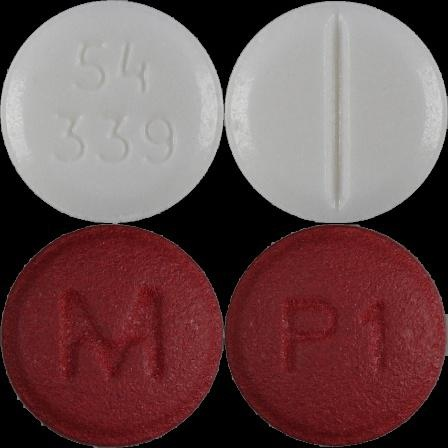0615-2513: (0, 0, 224, 224)
